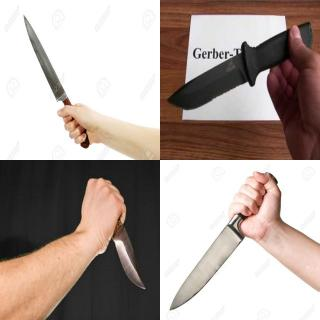knife: (162, 24, 300, 118), (168, 184, 264, 314), (20, 9, 84, 139), (96, 176, 148, 292)
